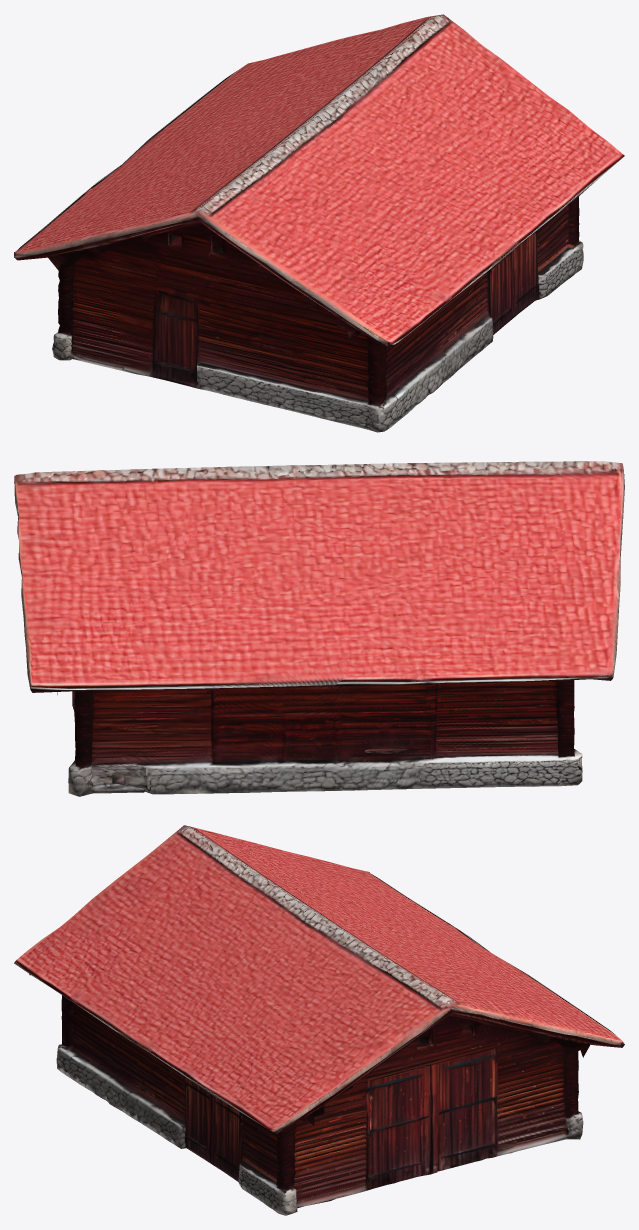
Rendered from barn_tripo.glb.
3 renders of one model, top to bottom at view 1: azimuth 30°, elevation 25°; view 2: azimuth 150°, elevation 25°; view 3: azimuth 270°, elevation 25°, orthographic. The views are drawn at different scales.
Visible parts, largest first — view 1: tripo_node_b71b0452-cf9c-4b40-b45a-884ce2ea82a6; view 2: tripo_node_b71b0452-cf9c-4b40-b45a-884ce2ea82a6; view 3: tripo_node_b71b0452-cf9c-4b40-b45a-884ce2ea82a6.
Part boxes in pixels (x1,y1,x2,y2): tripo_node_b71b0452-cf9c-4b40-b45a-884ce2ea82a6: [14, 14, 624, 432]; tripo_node_b71b0452-cf9c-4b40-b45a-884ce2ea82a6: [14, 461, 624, 796]; tripo_node_b71b0452-cf9c-4b40-b45a-884ce2ea82a6: [14, 825, 624, 1215].
Bounding box in the file's own units: 0.9756 × 0.3376 × 0.976.
Materials: 1 (1 with a texture image).
